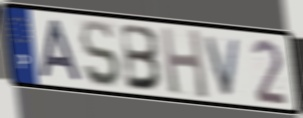2: (248, 36, 290, 107)
A: (39, 17, 85, 84)
B: (120, 22, 165, 94)
H: (159, 25, 211, 102)
S: (78, 18, 123, 91)
V: (203, 35, 244, 99)
